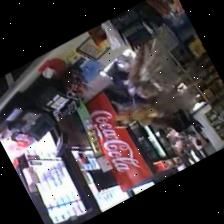person: (177, 109, 200, 145)
